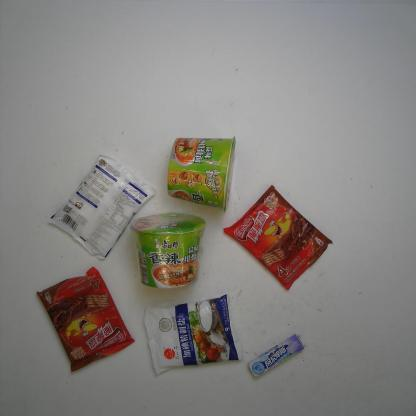Candy: (246, 332, 307, 379)
Dessert: (220, 182, 335, 292), (34, 266, 138, 374)
Instant Noodles: (128, 210, 209, 292), (163, 131, 238, 215)
Seasoner: (44, 151, 158, 261), (140, 292, 246, 379)
